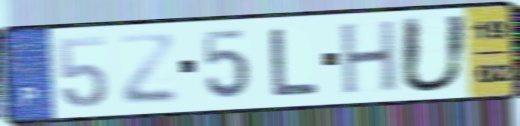5: (55, 33, 108, 111), (201, 26, 254, 102)
H: (339, 17, 399, 98)
L: (267, 26, 321, 99)
U: (396, 12, 472, 96)
Z: (115, 33, 180, 107)
